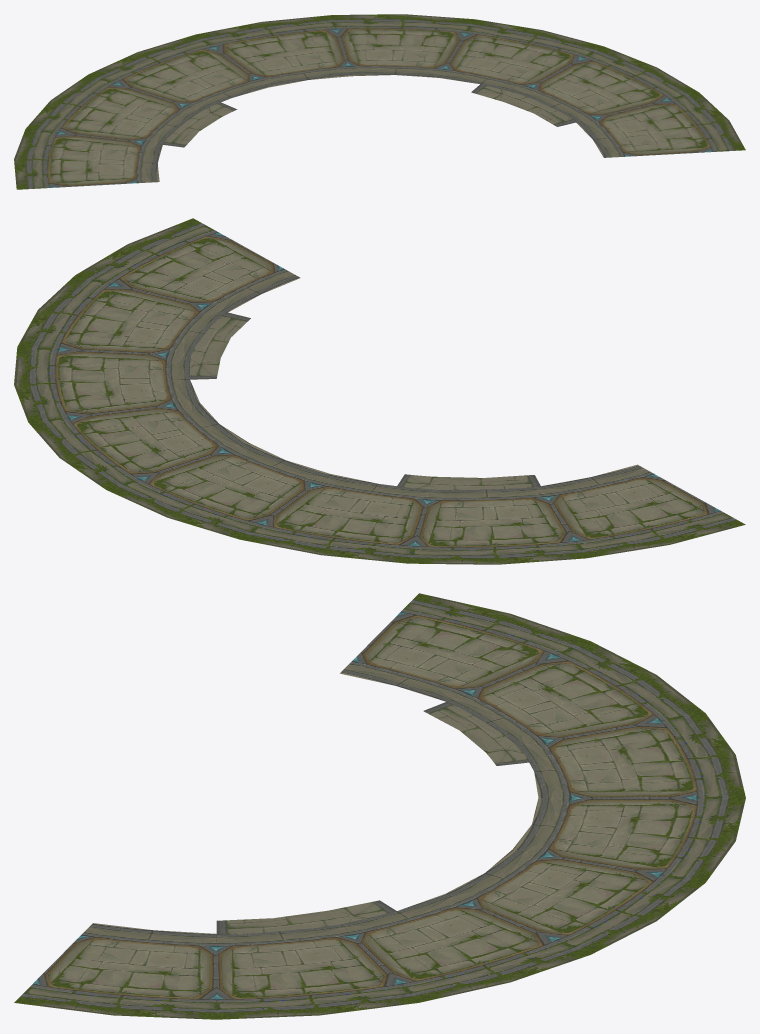
File: ZC_dibiao01.FBX
3 views of the same model, one above another, from view 1: azimuth 30°, elevation 25°; view 2: azimuth 150°, elevation 25°; view 3: azimuth 270°, elevation 25° (orthographic). The views are drawn at different scales.
Visible parts, largest first — view 1: ZC_dibiao01_001; view 2: ZC_dibiao01_001; view 3: ZC_dibiao01_001.
Part boxes in pixels (x1,y1,x2,y2): ZC_dibiao01_001: (14,14,745,189); ZC_dibiao01_001: (14,218,745,564); ZC_dibiao01_001: (14,593,745,1019).
Bounding box in the file's own units: 7079 × 0.00102 × 5135.
